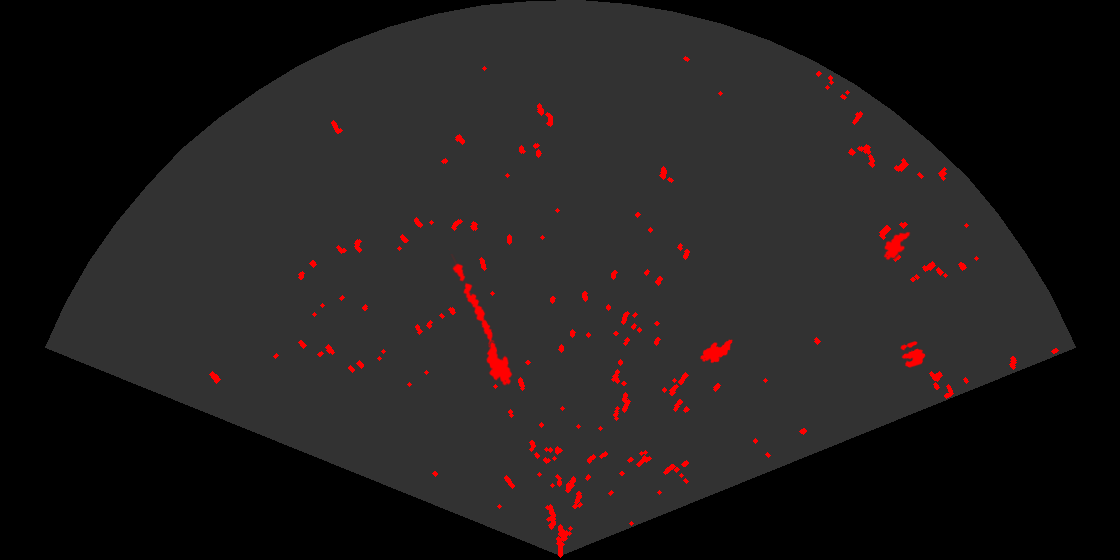AUV: (484, 340, 514, 387), (698, 338, 735, 365), (882, 230, 912, 262)
ball: (899, 339, 927, 369)
chain: (449, 254, 496, 353)
